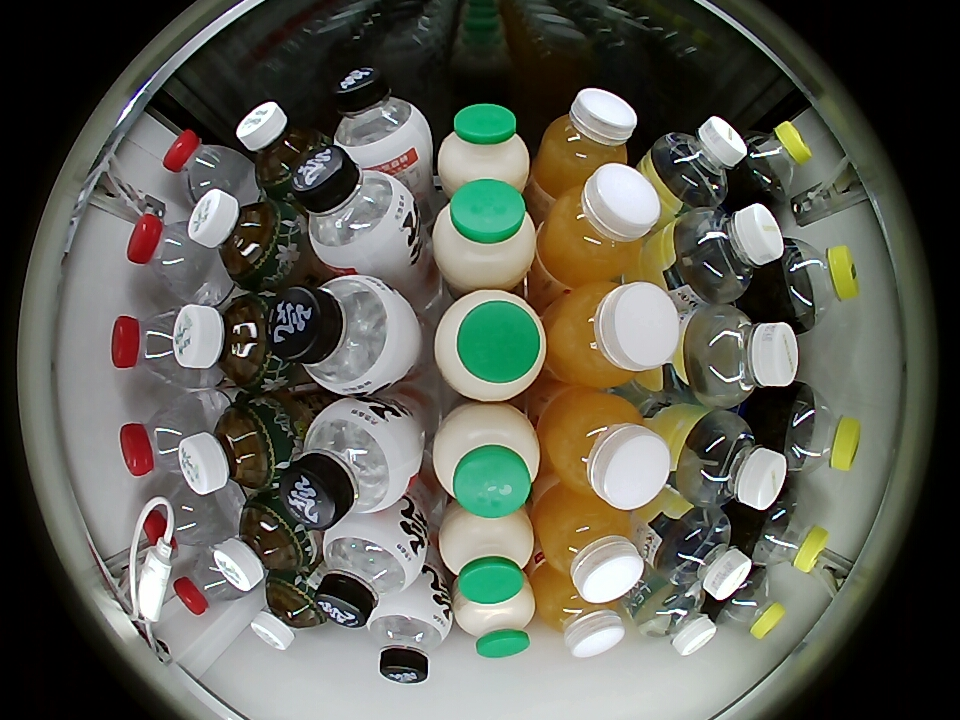baishikele: (779, 241, 860, 330), (782, 387, 861, 474), (748, 495, 830, 573), (741, 122, 812, 199), (716, 571, 787, 639)
liziyuan: (433, 290, 546, 402), (432, 402, 540, 517), (432, 180, 536, 290), (438, 505, 534, 605), (437, 102, 530, 194), (453, 581, 535, 660)
moliqingcha: (186, 189, 300, 289), (171, 292, 285, 392), (178, 396, 290, 496), (214, 495, 310, 592), (236, 101, 332, 195), (251, 573, 329, 650)
nongfushanquan: (126, 213, 214, 297), (120, 397, 204, 478), (110, 308, 193, 385), (163, 129, 244, 202), (139, 491, 229, 555), (173, 548, 244, 616)
qinningshui: (686, 305, 801, 407), (676, 409, 788, 511), (674, 202, 786, 302), (649, 115, 748, 209), (656, 509, 753, 600), (634, 583, 717, 656)
weic: (539, 390, 670, 510), (537, 163, 660, 285), (546, 282, 680, 388), (533, 487, 645, 602), (534, 88, 639, 196), (535, 568, 626, 658)
yuanqishui: (266, 275, 419, 396), (281, 400, 420, 529), (291, 147, 419, 274), (315, 515, 425, 628), (332, 66, 431, 172), (369, 597, 452, 683)
